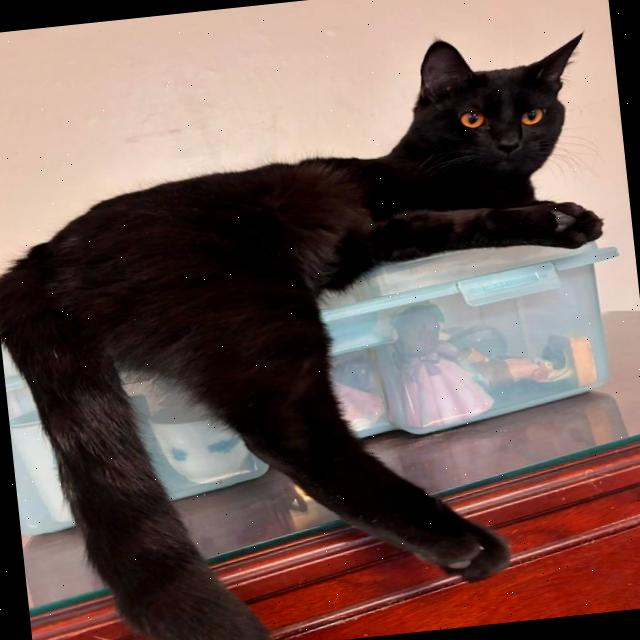bombay_cat: (373, 0, 610, 221)
